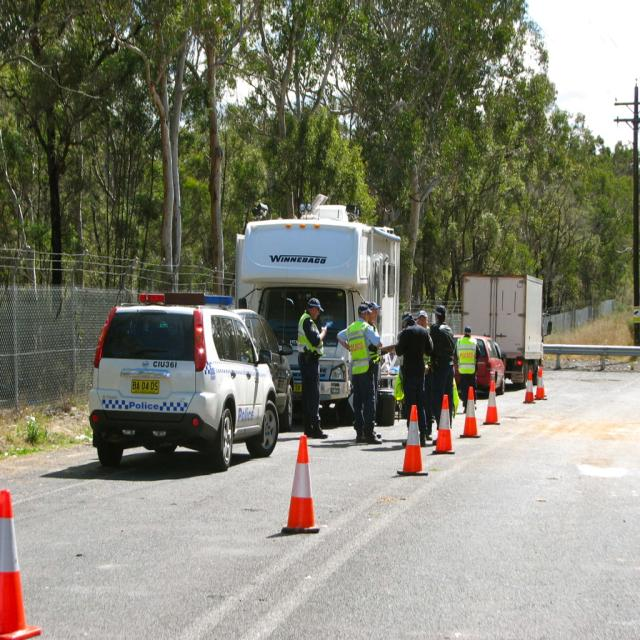car: (84, 296, 281, 479)
